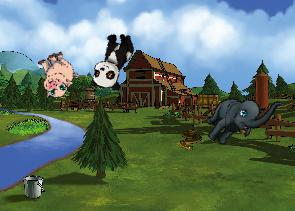elephant: (198, 73, 283, 162)
panda: (88, 27, 137, 94)
pig: (30, 47, 82, 101)
